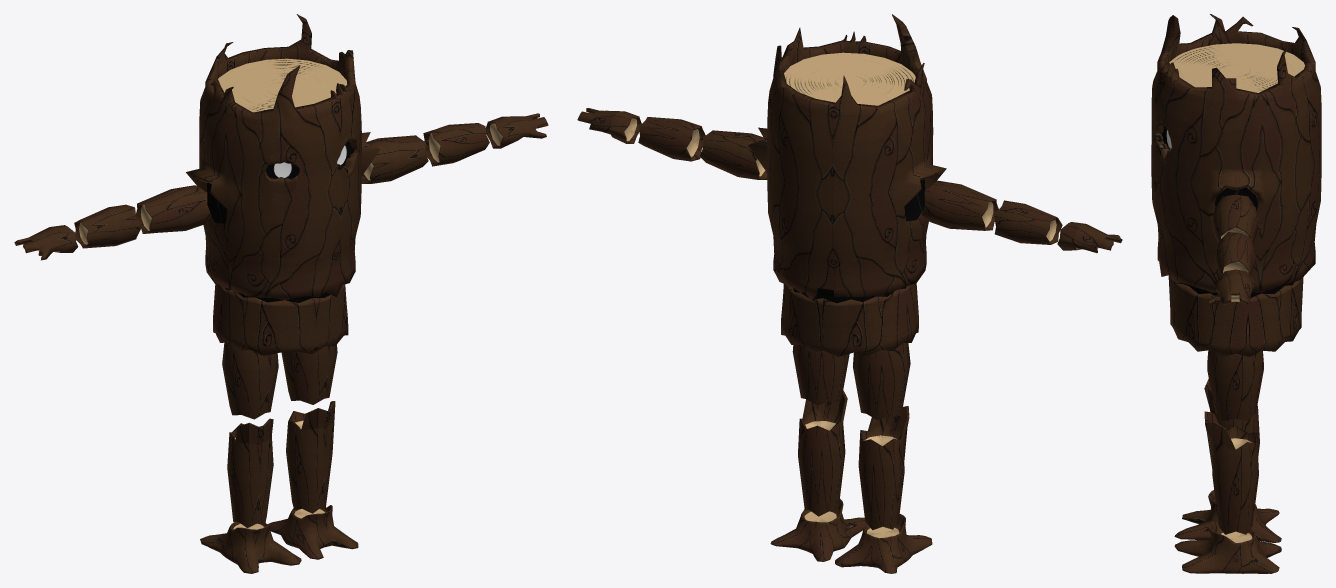
Rendered from testchar.dae.
3 renders of one model, left to right at view 1: azimuth 30°, elevation 25°; view 2: azimuth 150°, elevation 25°; view 3: azimuth 270°, elevation 25°, orthographic. The views are drawn at different scales.
Parts seen in each view (by area): view 1: WoodenSpiritus1_Mesh; view 2: WoodenSpiritus1_Mesh; view 3: WoodenSpiritus1_Mesh.
Part boxes in pixels (left/top/right/bottom): WoodenSpiritus1_Mesh: left=14, top=14, right=548, bottom=573; WoodenSpiritus1_Mesh: left=577, top=14, right=1122, bottom=573; WoodenSpiritus1_Mesh: left=1151, top=14, right=1321, bottom=573.
Bounding box in the file's own units: 4.09 × 3.8 × 1.11.
